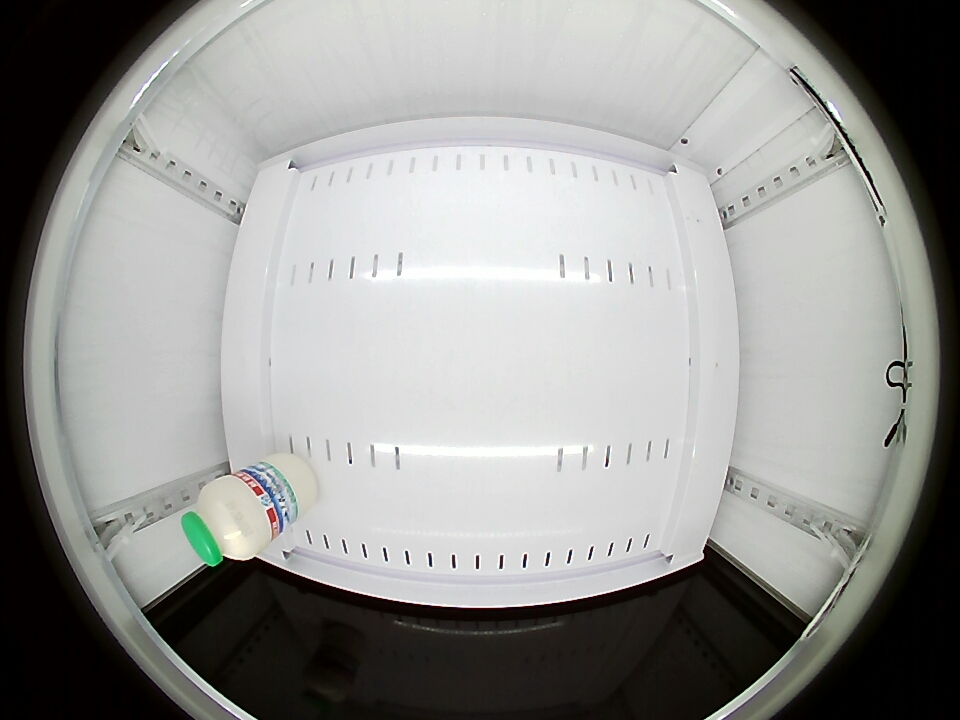liziyuan: (181, 473, 277, 566)
